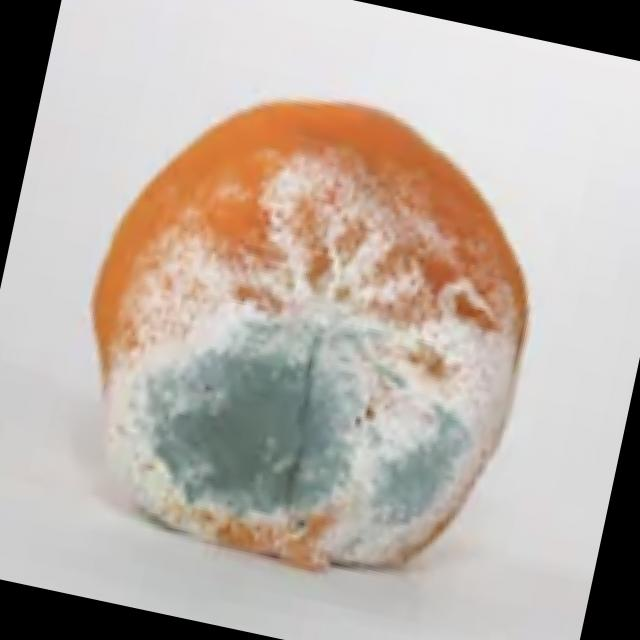rotten-orange: (52, 59, 566, 598)
